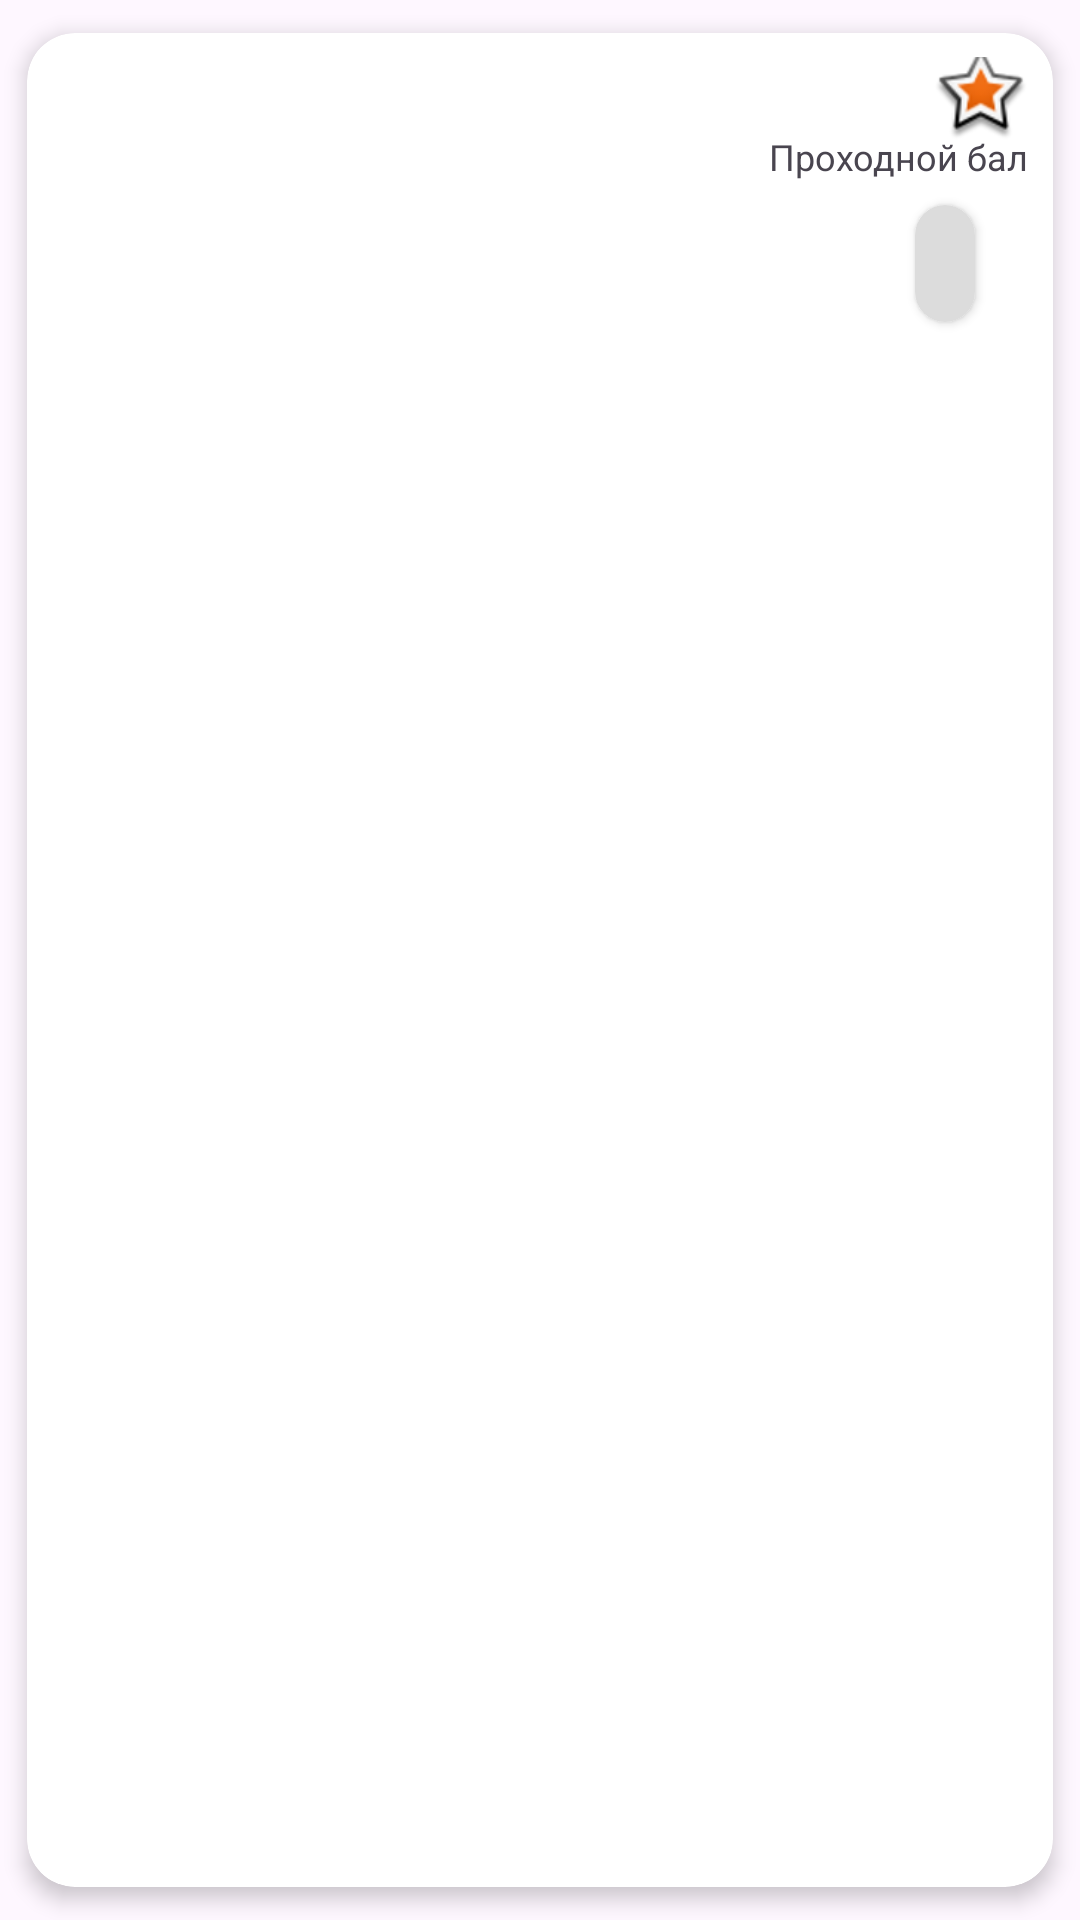

Where icons sit on this 1080px x 1920px app screen, as (left=x1, top=y1, right=x2, bottom=y2):
star on: (left=939, top=57, right=1023, bottom=135)
